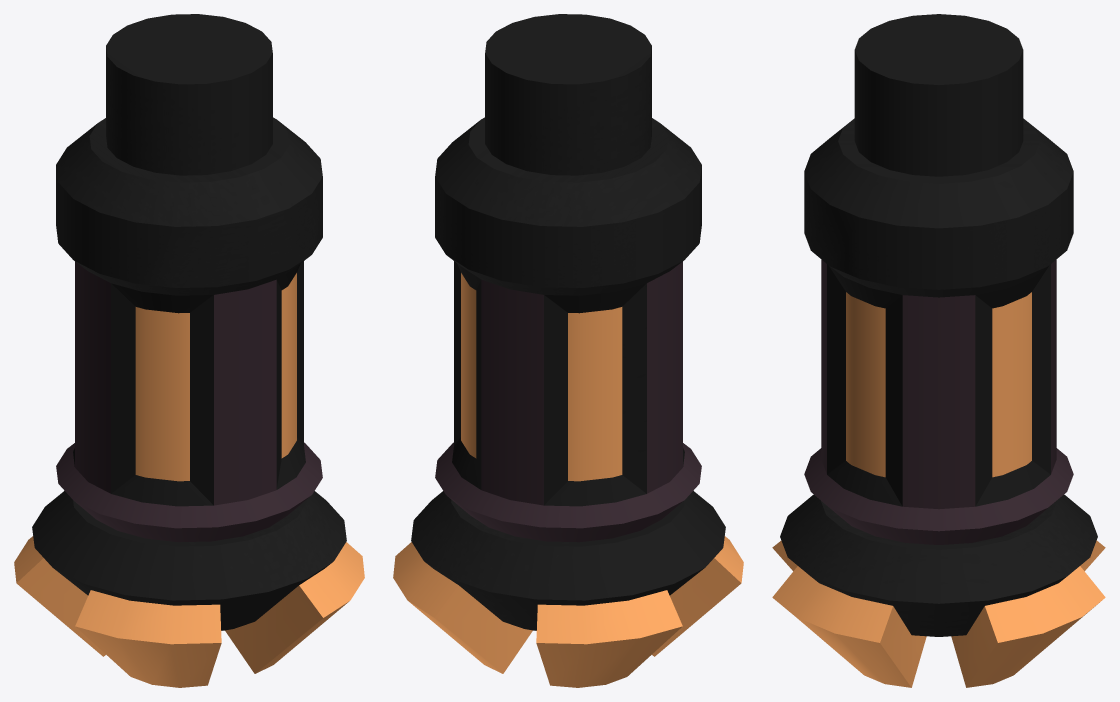
The model's file is YK_Large_Anchor_Rotating_Hook.obj.
The picture shows the model from 3 angles, left to right: view 1: azimuth 30°, elevation 25°; view 2: azimuth 150°, elevation 25°; view 3: azimuth 270°, elevation 25°; orthographic projection.
Visible parts, largest first — view 1: BF_Block_111.004_BF_Block_111.010; view 2: BF_Block_111.004_BF_Block_111.010; view 3: BF_Block_111.004_BF_Block_111.010.
Boxes of the visible parts, x1=… form: BF_Block_111.004_BF_Block_111.010: x1=14, y1=14, x2=364, y2=687; BF_Block_111.004_BF_Block_111.010: x1=393, y1=14, x2=743, y2=687; BF_Block_111.004_BF_Block_111.010: x1=772, y1=14, x2=1105, y2=687.
Bounding box in the file's own units: 1.98 × 3.95 × 1.98.
